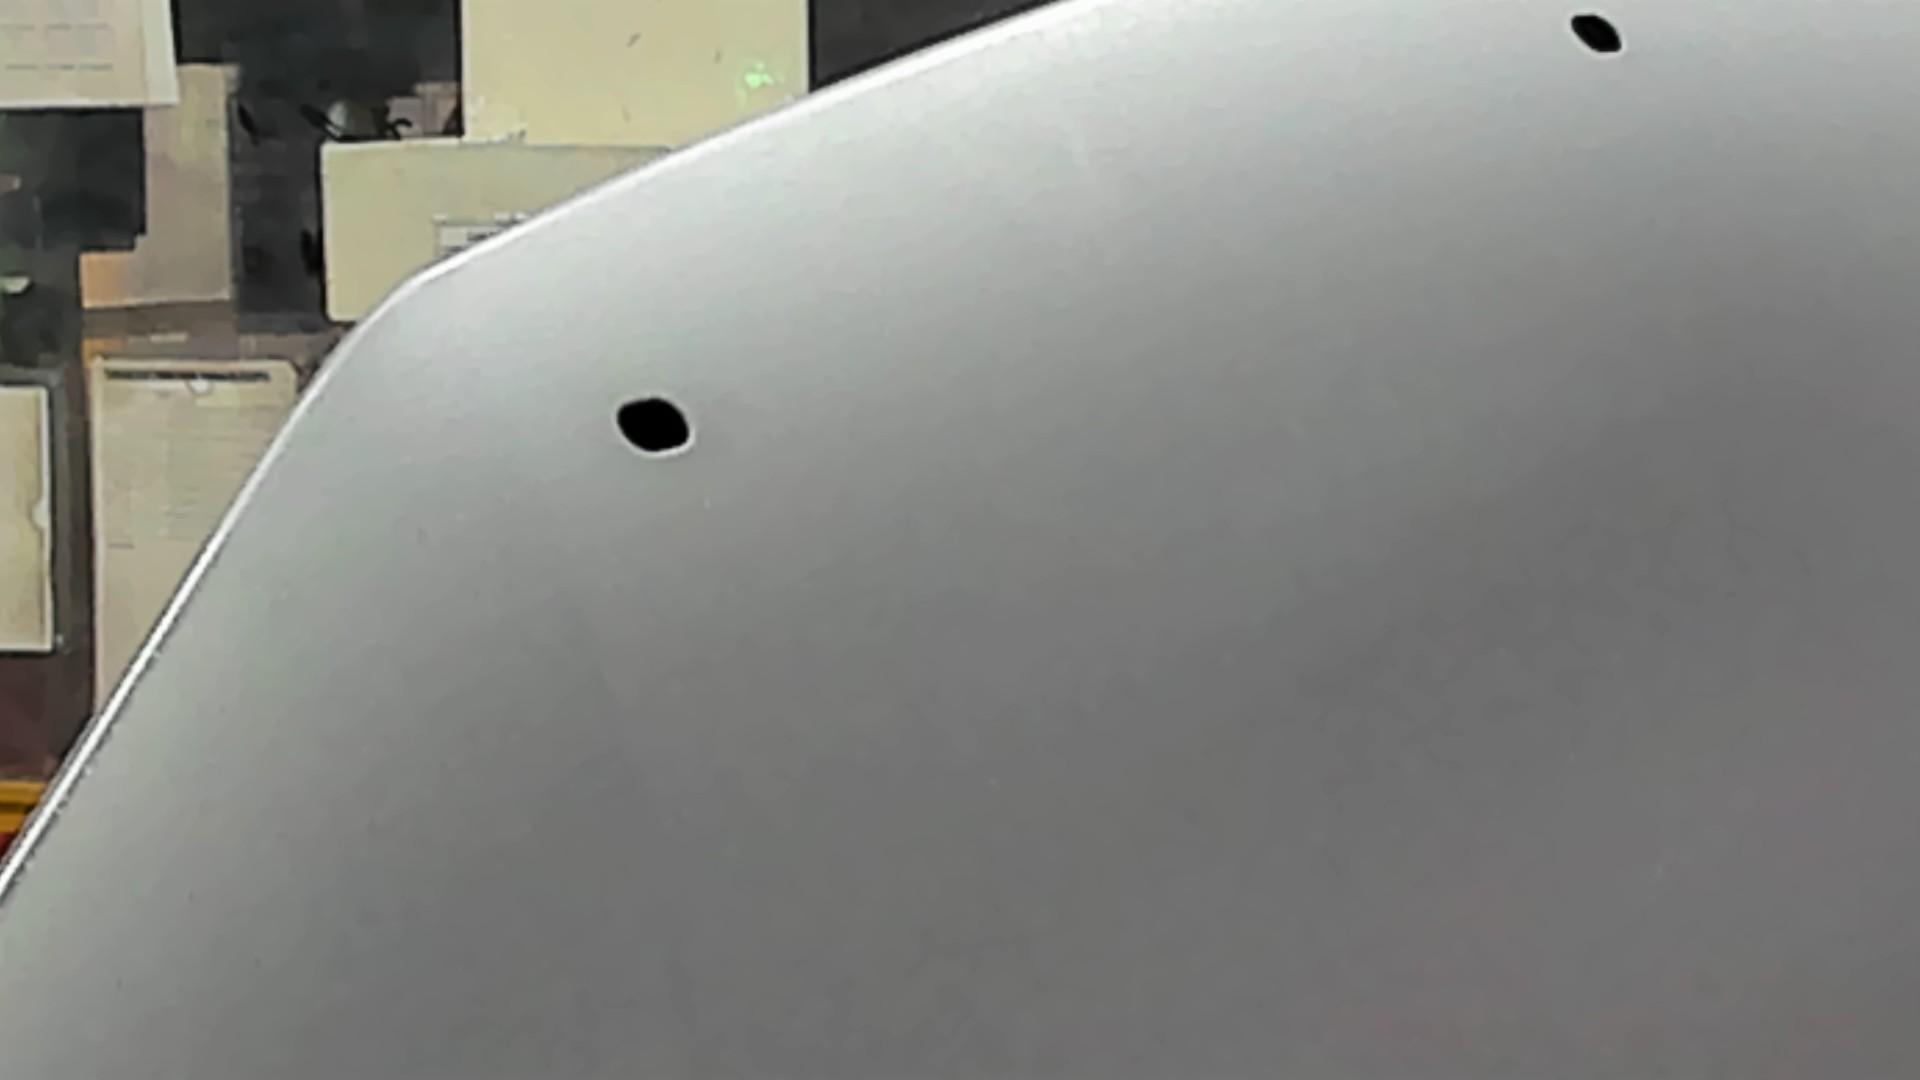chico: (603, 390, 713, 460), (1551, 1, 1642, 70)
